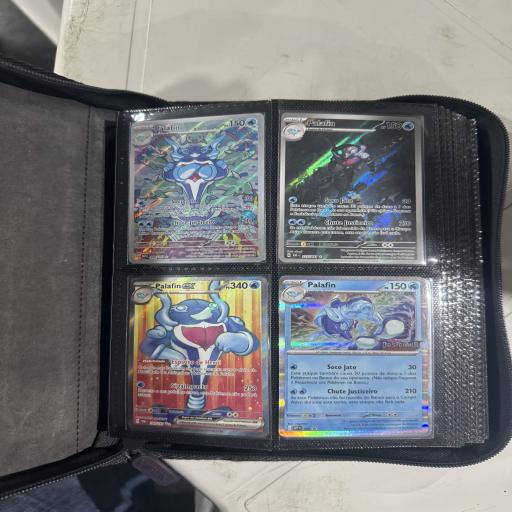card: (278, 274, 430, 437), (128, 277, 269, 439), (279, 112, 426, 264), (128, 112, 265, 264)
